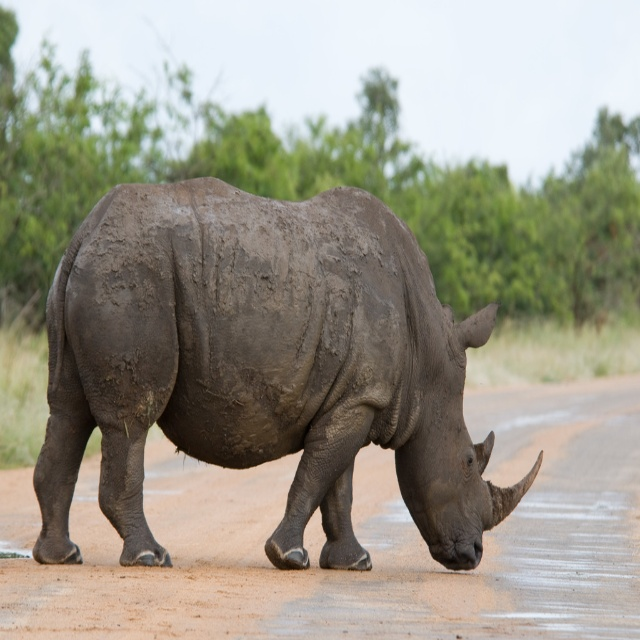Rhinoceros: (28, 175, 544, 573)
